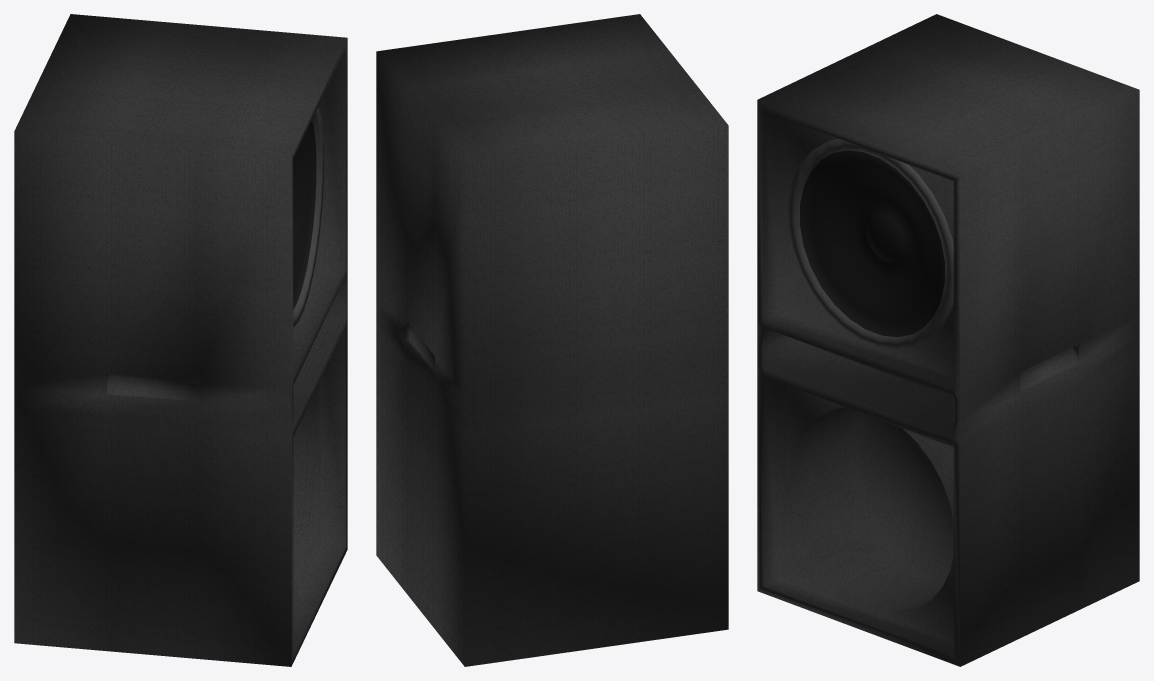
Rendered from BafleIzquierdo.glb.
3 renders of one model, left to right at view 1: azimuth 30°, elevation 25°; view 2: azimuth 150°, elevation 25°; view 3: azimuth 270°, elevation 25°, orthographic. The views are drawn at different scales.
Parts seen in each view (by area): view 1: Stage Speaker 60x60x120, Speakers; view 2: Stage Speaker 60x60x120; view 3: Stage Speaker 60x60x120, Speakers.
Boxes of the visible parts, x1=… form: Stage Speaker 60x60x120: x1=14, y1=14, x2=347, y2=666; Speakers: x1=293, y1=107, x2=323, y2=327; Stage Speaker 60x60x120: x1=376, y1=14, x2=728, y2=666; Stage Speaker 60x60x120: x1=757, y1=14, x2=1139, y2=666; Speakers: x1=787, y1=138, x2=953, y2=350.
Bounding box in the file's own units: 42.35 × 60 × 42.35.
Materials: 1 (1 with a texture image).
